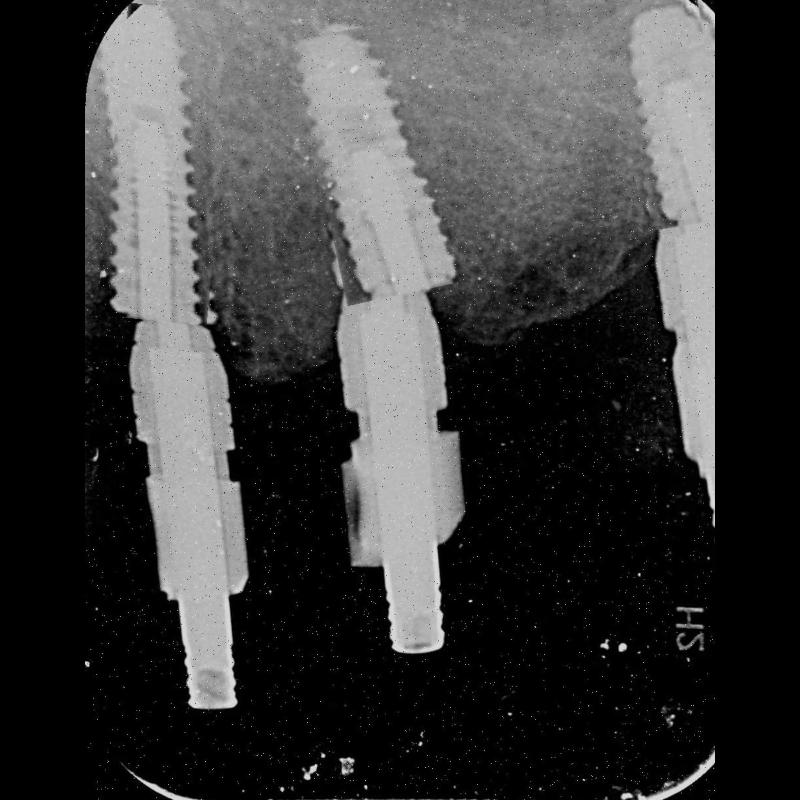osstem: (305, 23, 451, 302), (104, 5, 230, 323), (626, 1, 714, 229)
